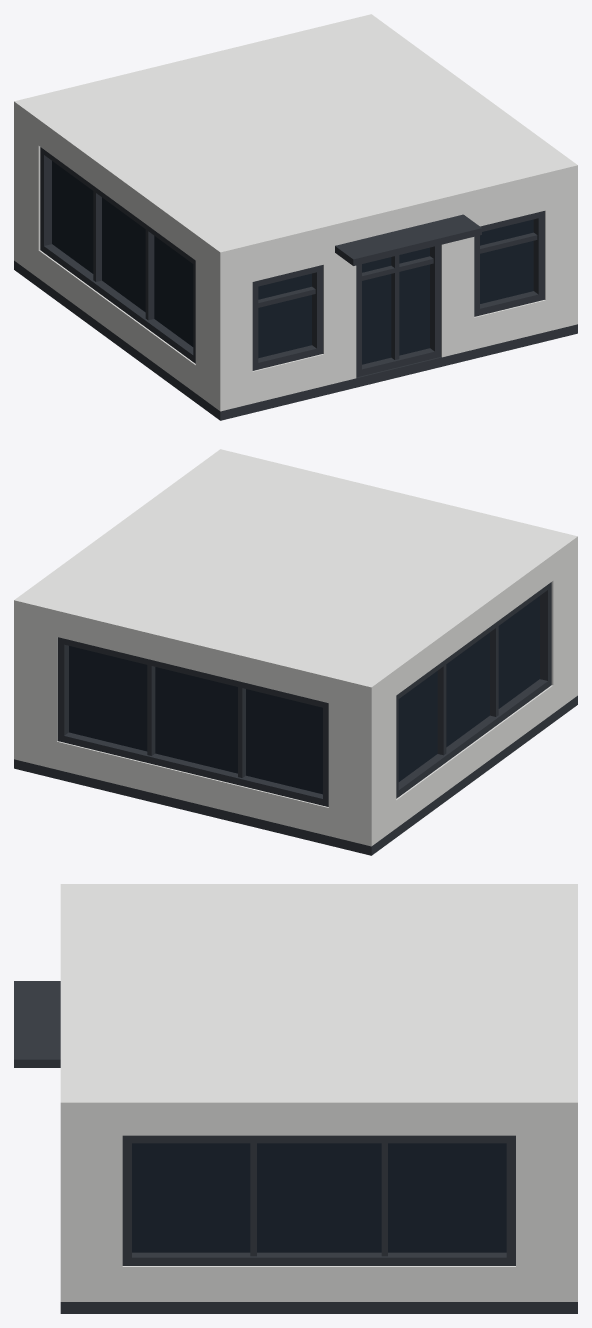
Rendered from ground.glb.
The picture shows the model from 3 angles, top to bottom: view 1: azimuth 30°, elevation 25°; view 2: azimuth 150°, elevation 25°; view 3: azimuth 270°, elevation 25°; orthographic projection. The views are drawn at different scales.
Visible parts, largest first — view 1: ground; view 2: ground; view 3: ground.
Boxes of the visible parts, left/top/right/bottom form: ground: left=14, top=14, right=577, bottom=420; ground: left=14, top=449, right=577, bottom=855; ground: left=14, top=884, right=577, bottom=1313.
Bounding box in the file's own units: 1 × 0.45 × 1.09.
